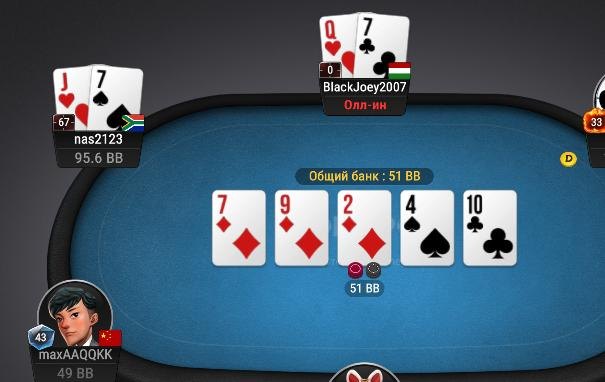10c: (463, 191, 517, 267)
2d: (338, 192, 391, 268)
4s: (401, 192, 453, 267)
7c: (357, 13, 408, 78)
7d: (212, 190, 267, 266)
7s: (92, 63, 143, 135)
9d: (274, 190, 327, 264)
Jh: (52, 67, 92, 129)
Qh: (319, 15, 357, 78)
